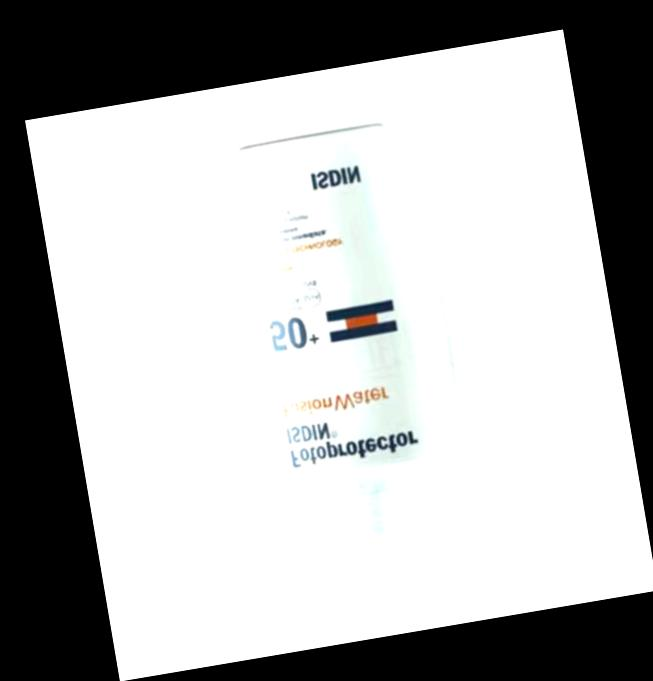cosmetic: (220, 116, 478, 596)
